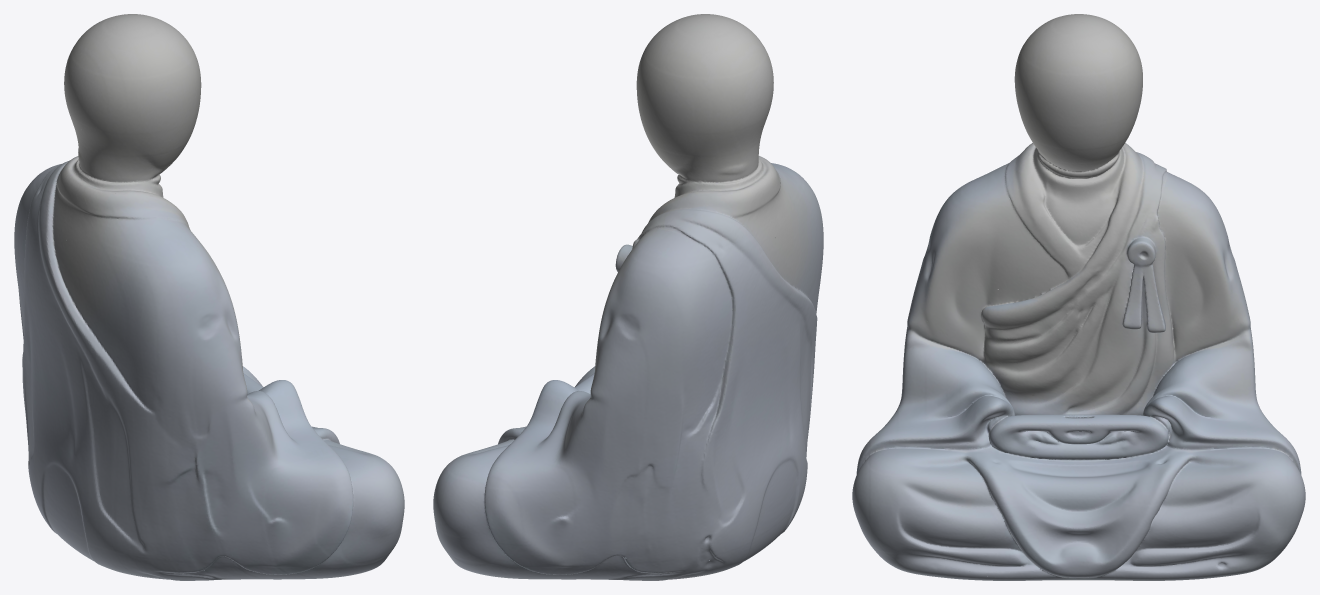
Rendered from glass+buddha+statue+3d+model.glb.
3 views of the same model, side by side, from view 1: azimuth 30°, elevation 25°; view 2: azimuth 150°, elevation 25°; view 3: azimuth 270°, elevation 25° (orthographic). The views are drawn at different scales.
Visible parts, largest first — view 1: tripo_node_8565c853-55fc-4392-b863-32e67eabd802; view 2: tripo_node_8565c853-55fc-4392-b863-32e67eabd802; view 3: tripo_node_8565c853-55fc-4392-b863-32e67eabd802.
Boxes of the visible parts, x1,y1,x2,y2 form: tripo_node_8565c853-55fc-4392-b863-32e67eabd802: (14, 14, 404, 580); tripo_node_8565c853-55fc-4392-b863-32e67eabd802: (433, 14, 823, 580); tripo_node_8565c853-55fc-4392-b863-32e67eabd802: (852, 14, 1305, 580).
Size of the model in its own units: 0.518 by 1 by 0.8396.
Materials: 1 (1 with a texture image).
